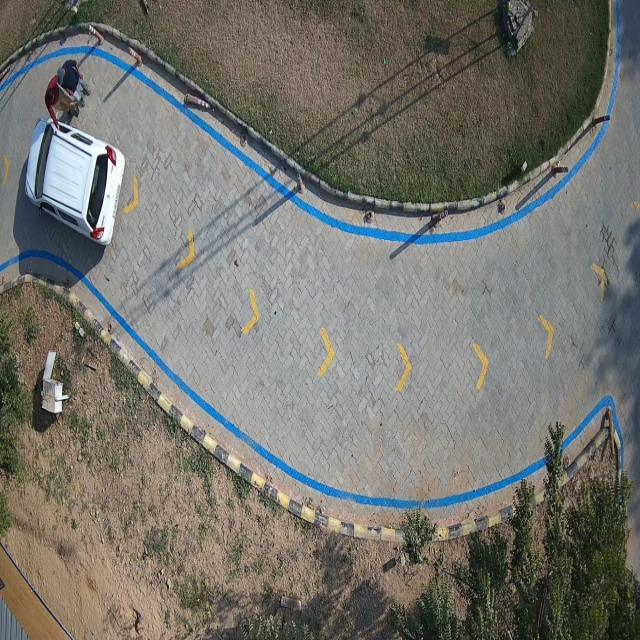car: (24, 117, 126, 246)
